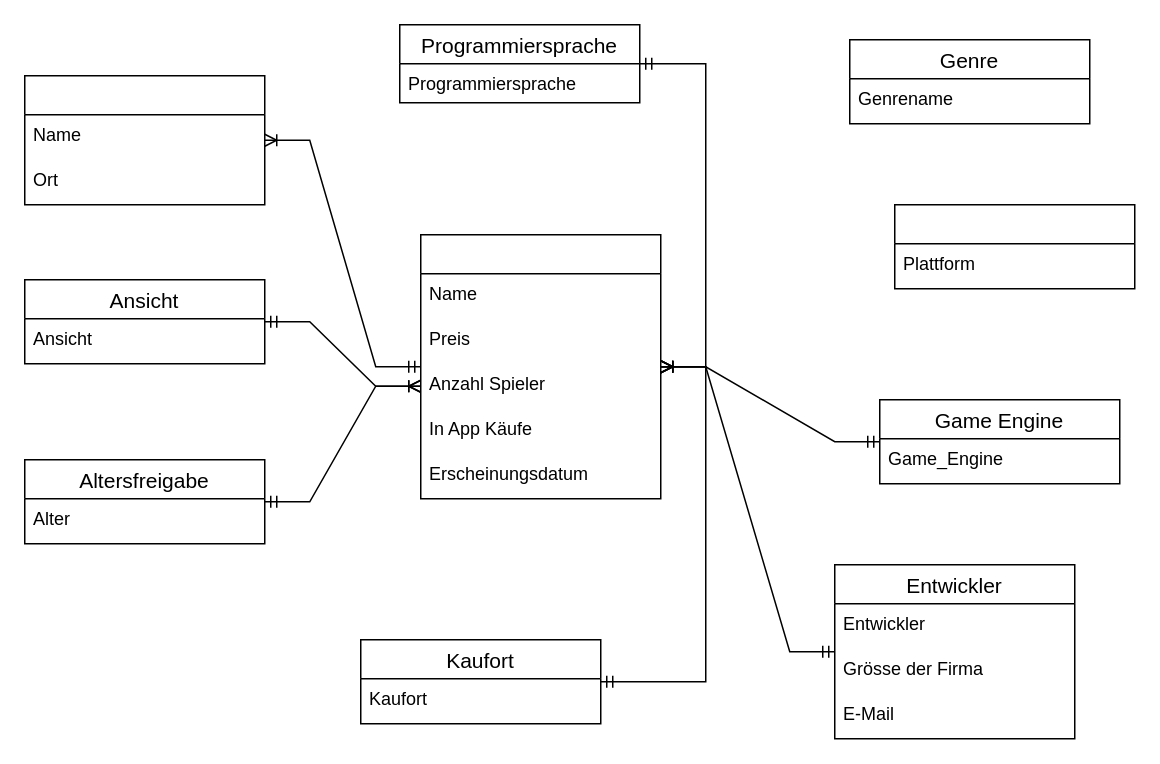
The diagram is 1160 pixels wide and 764 high, and some of its shapes have lost their labels. Here are the shapes that lost their labels. From the top down, the box of each, then its label:
(23, 74, 265, 205): Events
(893, 203, 1135, 289): Plattformen
(419, 233, 661, 499): Spielname
